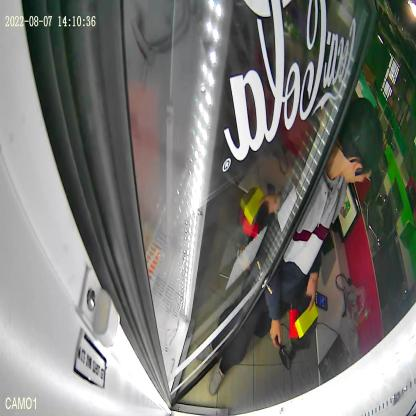red: (289, 300, 304, 350)
yellow: (295, 296, 318, 340)
